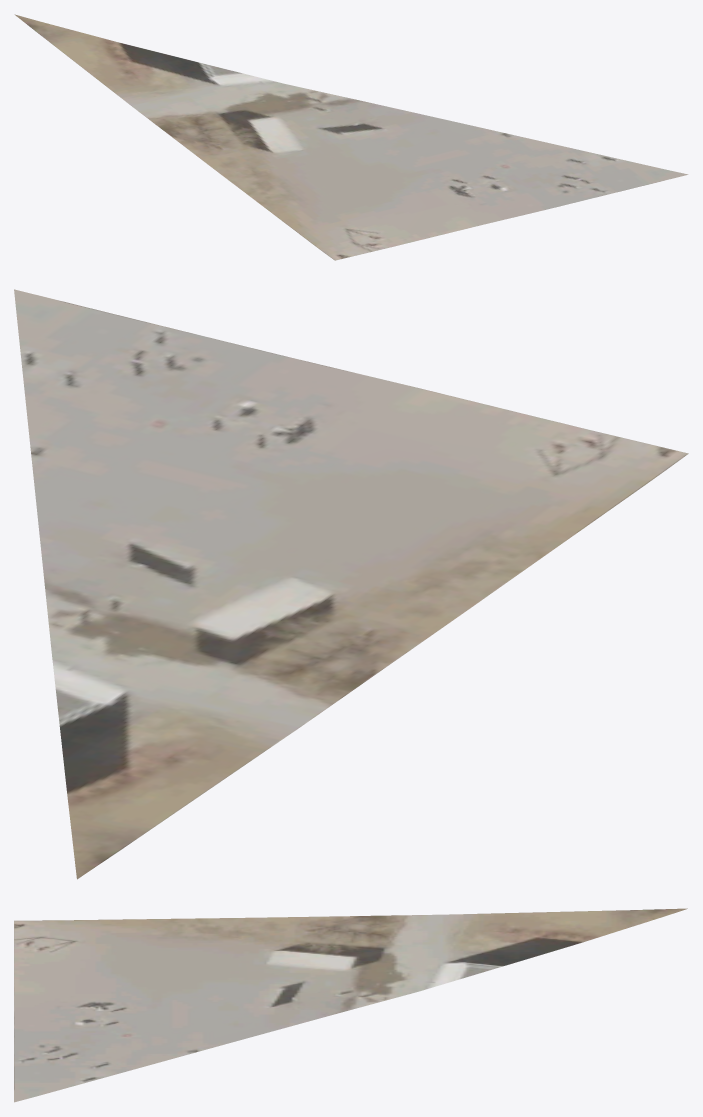
File: CM_Terrain_24493121_6817951.fbx
The picture shows the model from 3 angles, top to bottom: view 1: azimuth 30°, elevation 25°; view 2: azimuth 150°, elevation 25°; view 3: azimuth 270°, elevation 25°; orthographic projection. The views are drawn at different scales.
Parts seen in each view (by area): view 1: CM_Terrain_24493121_6817951_LOD0; view 2: CM_Terrain_24493121_6817951_LOD0; view 3: CM_Terrain_24493121_6817951_LOD0.
Boxes of the visible parts, box(x1,y1,x2,y2) form: CM_Terrain_24493121_6817951_LOD0: box(14, 14, 688, 260); CM_Terrain_24493121_6817951_LOD0: box(14, 289, 688, 879); CM_Terrain_24493121_6817951_LOD0: box(14, 908, 687, 1102).
Size of what is drawn, in the model's own units: 33.67 by 1.1 by 52.87.
